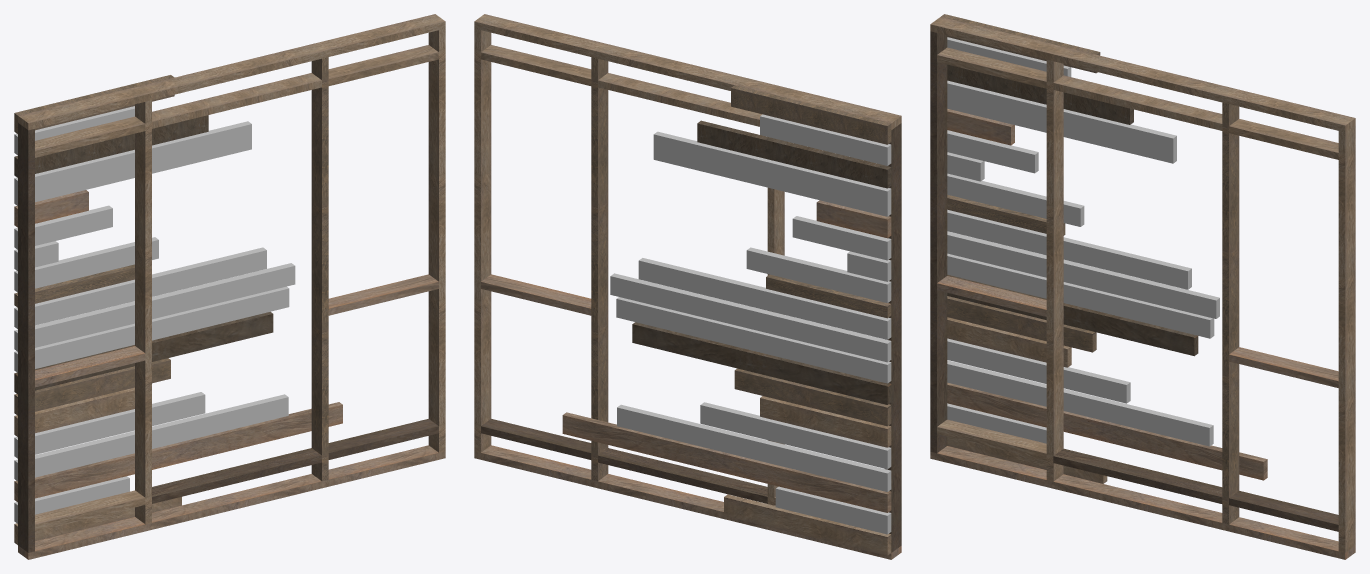
Rendered from WallPeiceDestroyD.fbx.
3 views of the same model, side by side, from view 1: azimuth 30°, elevation 25°; view 2: azimuth 150°, elevation 25°; view 3: azimuth 330°, elevation 25° (orthographic).
Parts seen in each view (by area): view 1: WallPeiceDestroyD; view 2: WallPeiceDestroyD; view 3: WallPeiceDestroyD.
Boxes of the visible parts, x1,y1,x2,y2 form: WallPeiceDestroyD: [14, 14, 445, 559]; WallPeiceDestroyD: [474, 14, 901, 559]; WallPeiceDestroyD: [930, 14, 1355, 559].
Bounding box in the file's own units: 374 × 374 × 22.
